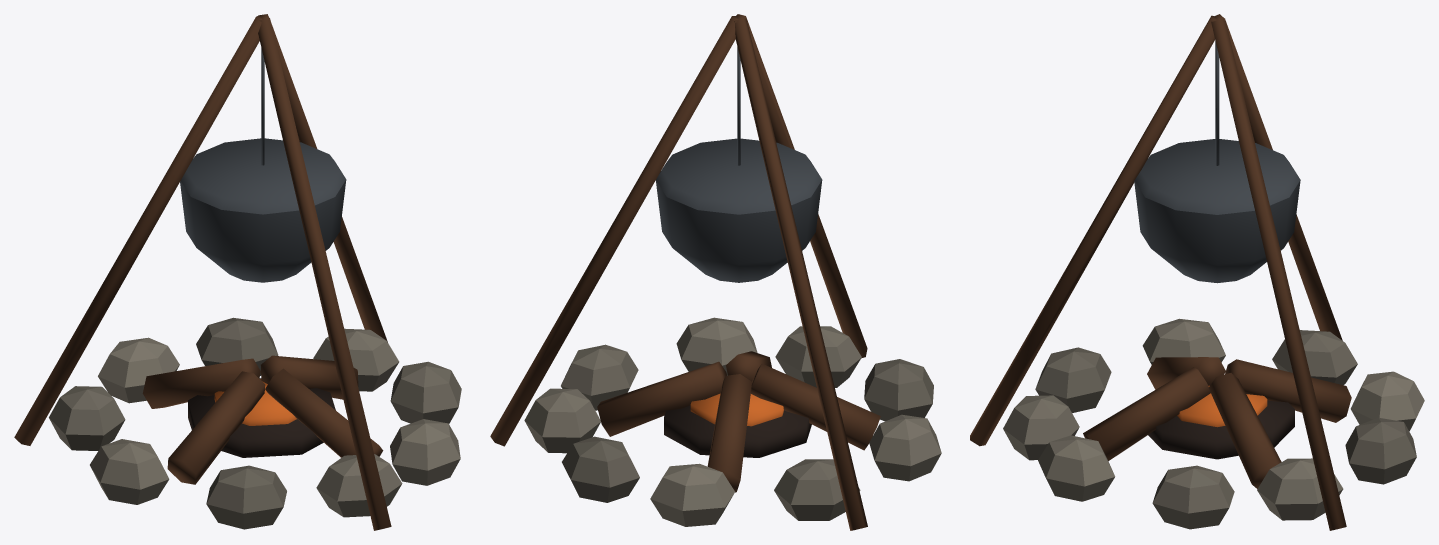
The model's file is vohnyshche.glb.
The picture shows the model from 3 angles, left to right: view 1: azimuth 30°, elevation 25°; view 2: azimuth 150°, elevation 25°; view 3: azimuth 270°, elevation 25°; orthographic projection.
Visible parts, largest first — view 1: vohnyshche; view 2: vohnyshche; view 3: vohnyshche.
Part boxes in pixels (x1,y1,x2,y2): vohnyshche: (14,14,461,530); vohnyshche: (490,14,941,530); vohnyshche: (970,14,1424,530).
Size of the model in its own units: 1.35 by 1.5 by 1.42.
